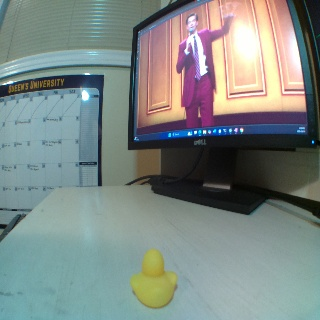duck_regular: (128, 250, 179, 307)
